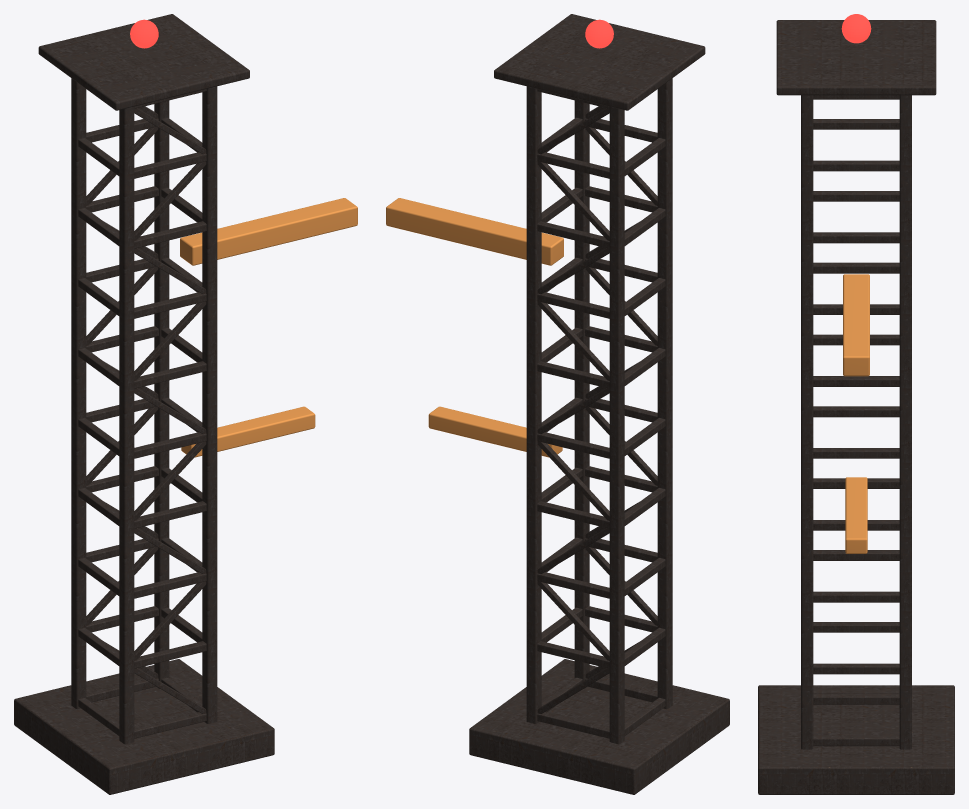
File: yp_tower.glb
3 views of the same model, side by side, from view 1: azimuth 30°, elevation 25°; view 2: azimuth 150°, elevation 25°; view 3: azimuth 270°, elevation 25° (orthographic). The views are drawn at different scales.
Visible parts, largest first — view 1: base, deck, leg, leg.002, leg.001, leg.003, arm, arm2, diag.006, diag.010, diag.014, diag.002 (+16 smaller); view 2: base, deck, leg.001, leg.003, leg, leg.002, arm, arm2, diag.007, diag.011, diag.015, diag.003 (+16 smaller); view 3: base, deck, leg.002, leg.003, arm, arm2, rung.002, rung.003, rung.007, rung.011, rung.018, rung.026 (+14 smaller).
Part boxes in pixels (x1,y1,x2,y2): base: (14,659,274,794); deck: (38,14,249,110); leg: (119,106,134,744); leg.002: (202,86,217,723); leg.001: (71,78,86,709); leg.003: (154,100,169,688); arm: (180,198,357,265); arm2: (181,406,315,457); diag.006: (134,441,206,520); diag.010: (134,301,206,380); diag.014: (134,161,206,240); diag.002: (134,581,206,660); base: (469,659,729,794); deck: (494,14,705,110); leg.001: (609,106,624,744); leg.003: (526,86,541,723); leg: (657,78,672,709); leg.002: (574,100,589,688); arm: (386,198,563,265); arm2: (428,406,562,457); diag.007: (537,441,609,520); diag.011: (537,301,609,380); diag.015: (537,161,609,240); diag.003: (537,581,609,660); base: (758,685,954,794); deck: (776,20,936,95); leg.002: (801,95,813,749); leg.003: (899,95,911,749); arm: (843,274,869,376); arm2: (845,477,867,553); rung.002: (813,693,899,704); rung.003: (813,735,899,746); rung.007: (813,663,899,674); rung.011: (813,591,899,602); rung.018: (813,406,899,417); rung.026: (813,262,899,273).
Bounding box in the file's own units: 2.8 × 6.62 × 1.6.
Materials: 3 (1 with a texture image).
